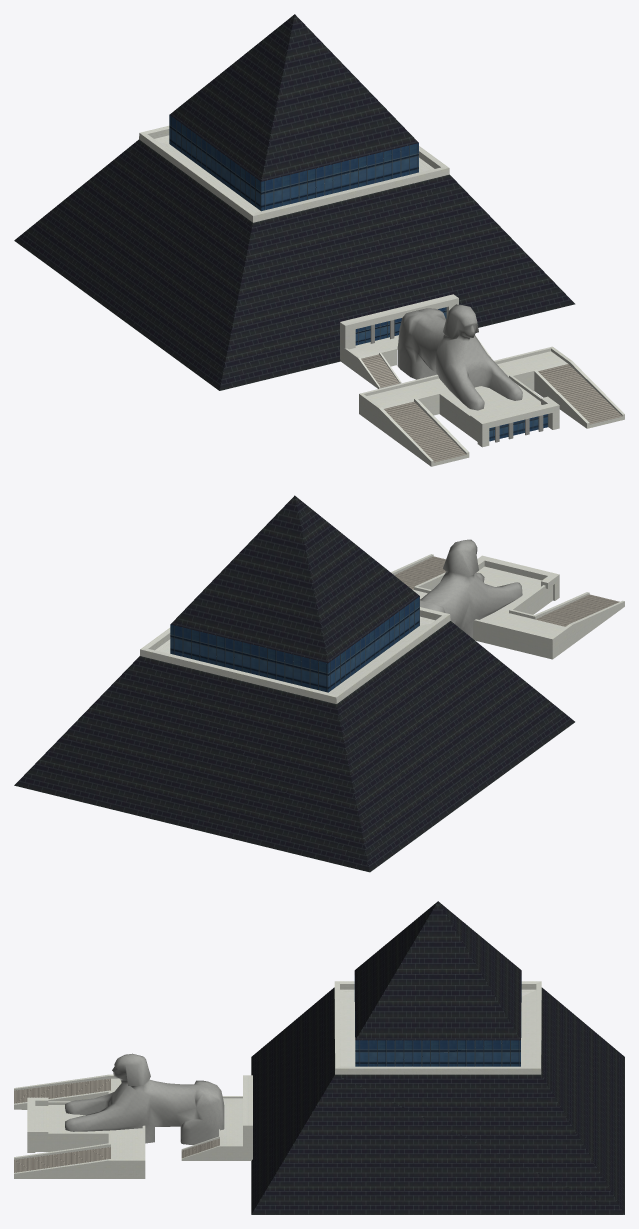
Rendered from Re_Invent_track_landmark_02.dae.
3 views of the same model, one above another, from view 1: azimuth 30°, elevation 25°; view 2: azimuth 150°, elevation 25°; view 3: azimuth 270°, elevation 25° (orthographic). The views are drawn at different scales.
Visible parts, largest first — view 1: Re_Invent_track_landmark_02; view 2: Re_Invent_track_landmark_02; view 3: Re_Invent_track_landmark_02.
Part boxes in pixels (left/top/right/bottom): Re_Invent_track_landmark_02: left=14, top=14, right=624, bottom=466; Re_Invent_track_landmark_02: left=14, top=495, right=624, bottom=872; Re_Invent_track_landmark_02: left=14, top=901, right=624, bottom=1214.
Bounding box in the file's own units: 5.68 × 9.29 × 3.94.
5 materials, 5 textured.
